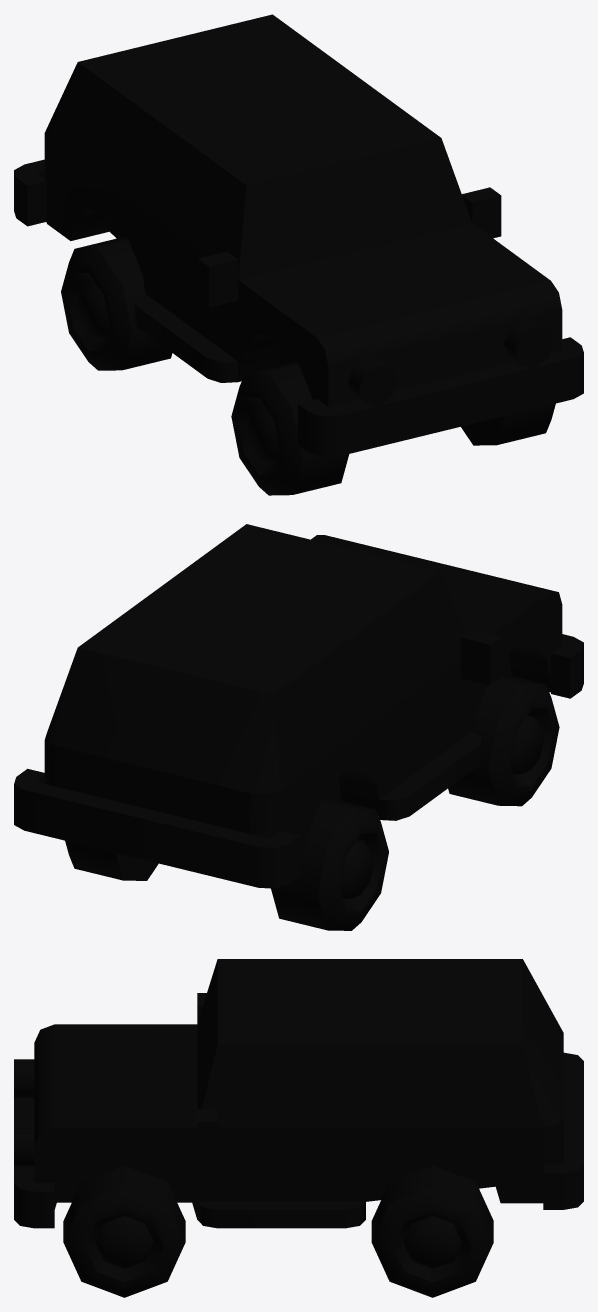
Rendered from vehicle-truck-purple.glb.
3 views of the same model, one above another, from view 1: azimuth 30°, elevation 25°; view 2: azimuth 150°, elevation 25°; view 3: azimuth 270°, elevation 25° (orthographic). The views are drawn at different scales.
Parts seen in each view (by area): view 1: body, wheel-back-right, wheel-front-right, wheel-front-left; view 2: body, wheel-back-right, wheel-front-right, wheel-back-left; view 3: body, wheel-back-left, wheel-front-left.
Part boxes in pixels (x1,y1,x2,y2): body: (14, 14, 583, 457); wheel-back-right: (61, 237, 172, 370); wheel-front-right: (231, 361, 349, 495); wheel-front-left: (461, 403, 555, 445); body: (14, 524, 583, 888); wheel-back-right: (271, 797, 388, 930); wheel-front-right: (448, 673, 559, 806); wheel-back-left: (65, 840, 158, 880); body: (14, 959, 583, 1228); wheel-back-left: (371, 1165, 493, 1297); wheel-front-left: (63, 1165, 185, 1297).
Bounding box in the file's own units: 1.5 × 1.3 × 2.8.
1 material, 1 textured.
